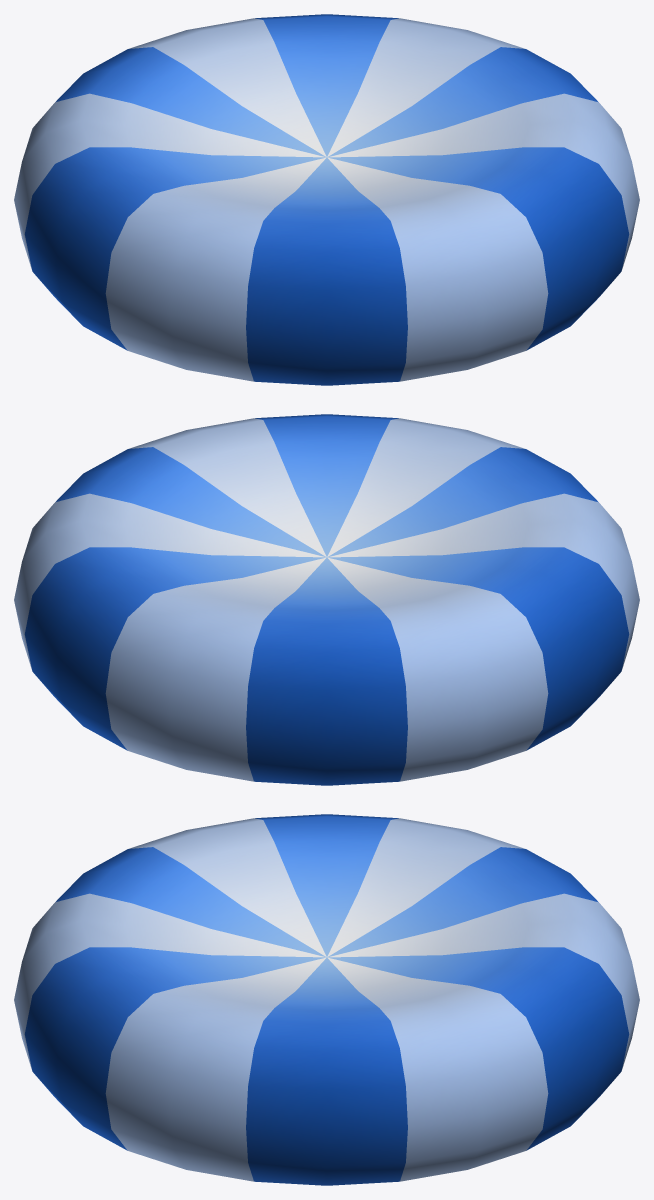
Rendered from candy_001.glb.
3 views of the same model, one above another, from view 1: azimuth 30°, elevation 25°; view 2: azimuth 150°, elevation 25°; view 3: azimuth 270°, elevation 25° (orthographic).
Parts seen in each view (by area): view 1: candy_001; view 2: candy_001; view 3: candy_001.
Boxes of the visible parts, x1,y1,x2,y2 form: candy_001: (14, 14, 639, 385); candy_001: (14, 414, 639, 785); candy_001: (14, 814, 639, 1185).
Bounding box in the file's own units: 3.37 × 0.9452 × 3.37.
Materials: 1 (1 with a texture image).
